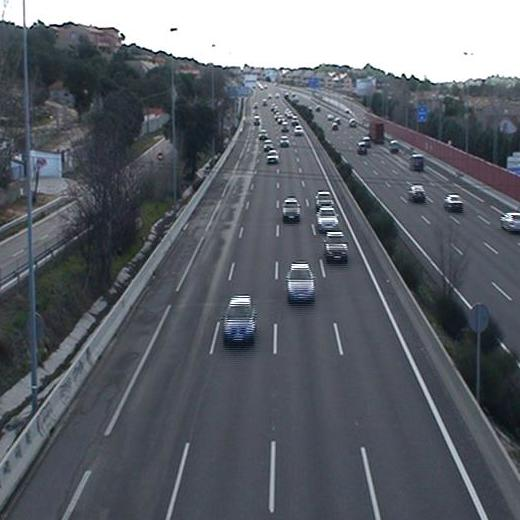car: (221, 294, 256, 344), (285, 261, 318, 303), (323, 229, 350, 266), (315, 203, 340, 232), (280, 195, 303, 224), (265, 148, 279, 163), (279, 135, 290, 147)
